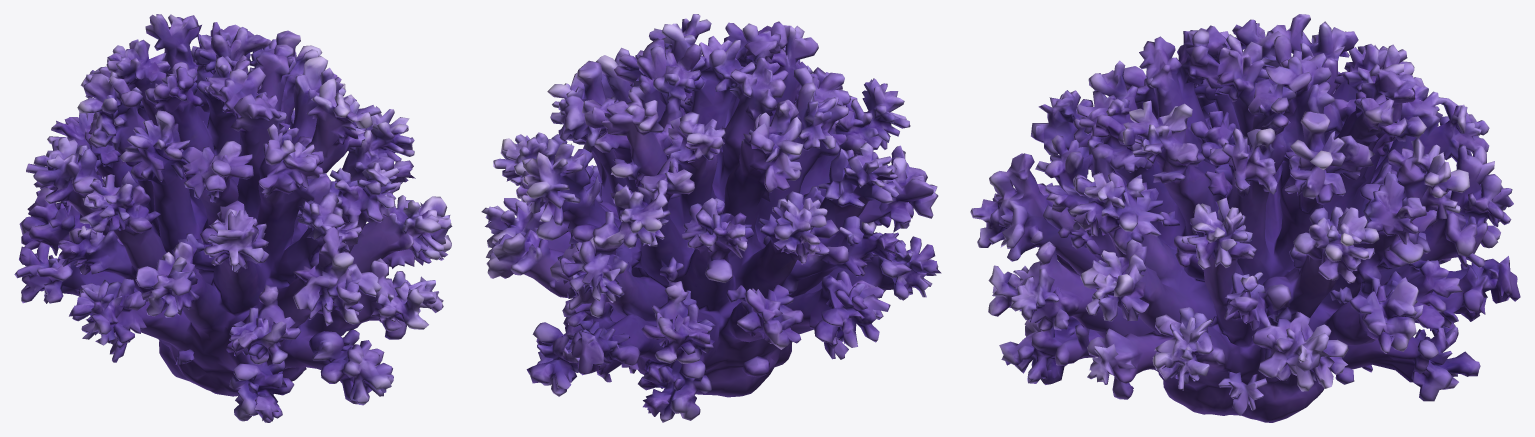
Rendered from coral_cauliflower.glb.
3 renders of one model, left to right at view 1: azimuth 30°, elevation 25°; view 2: azimuth 150°, elevation 25°; view 3: azimuth 270°, elevation 25°, orthographic. The views are drawn at different scales.
Visible parts, largest first — view 1: tripo_node_ecdf3ad8-9908-4b18-8674-b69beb3d0a02; view 2: tripo_node_ecdf3ad8-9908-4b18-8674-b69beb3d0a02; view 3: tripo_node_ecdf3ad8-9908-4b18-8674-b69beb3d0a02.
Boxes of the visible parts, x1,y1,x2,y2 form: tripo_node_ecdf3ad8-9908-4b18-8674-b69beb3d0a02: [14, 14, 452, 422]; tripo_node_ecdf3ad8-9908-4b18-8674-b69beb3d0a02: [481, 14, 941, 422]; tripo_node_ecdf3ad8-9908-4b18-8674-b69beb3d0a02: [970, 14, 1520, 422].
Size of the model in its own units: 0.899 by 0.733 by 1.
1 material, 1 textured.
